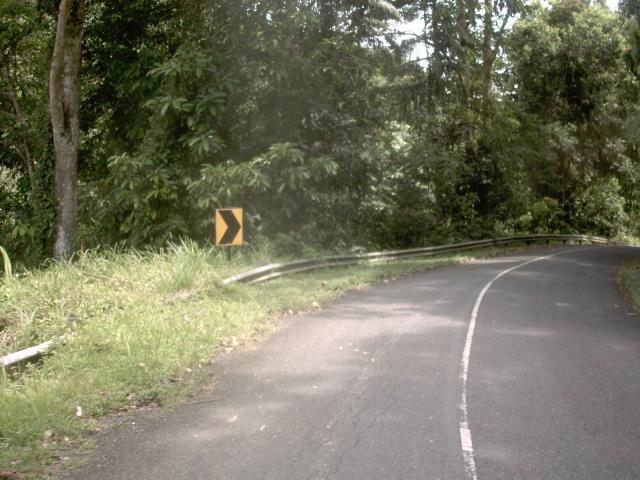traffic_sign: (206, 199, 252, 256)
